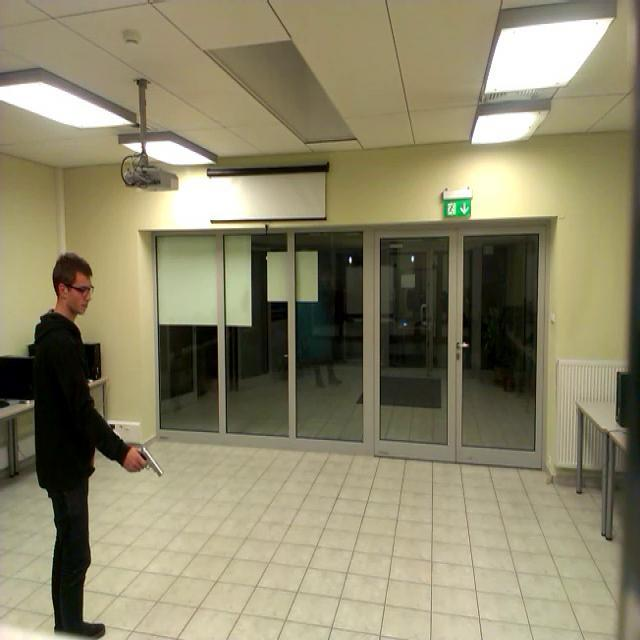Gun: (131, 446, 163, 476)
